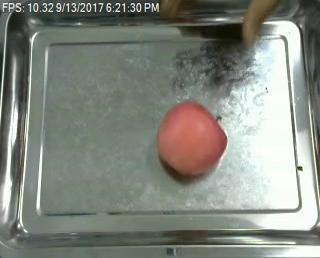apple: (156, 101, 229, 177)
